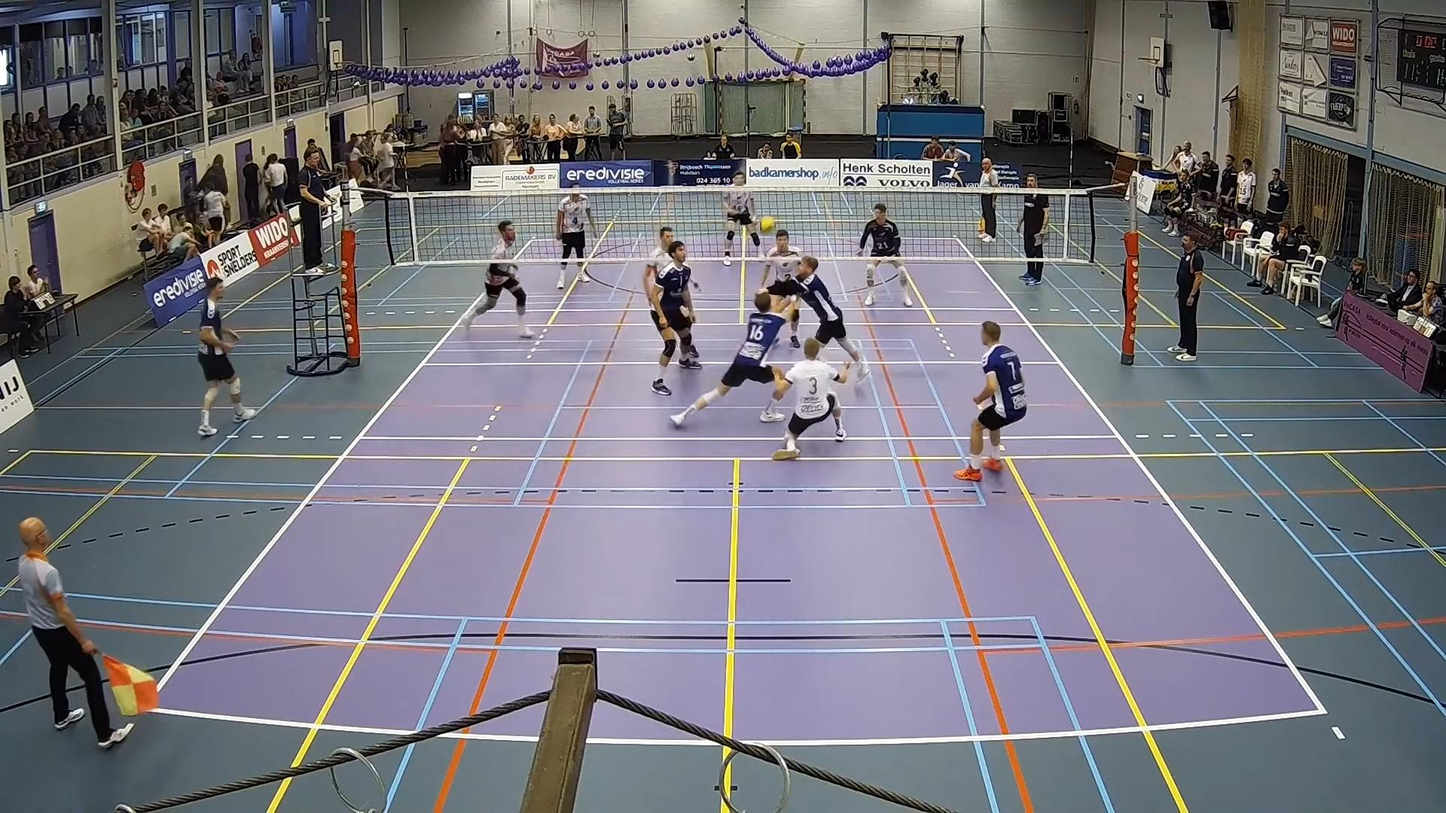Dig: (672, 292, 805, 431)
Player: (954, 321, 1027, 481), (792, 256, 868, 379), (773, 339, 849, 460), (198, 277, 255, 437), (468, 220, 533, 337), (652, 240, 700, 369), (643, 227, 677, 395), (859, 203, 913, 306), (555, 193, 595, 289), (723, 172, 760, 266), (764, 230, 801, 295)
ball: (758, 217, 782, 233)
